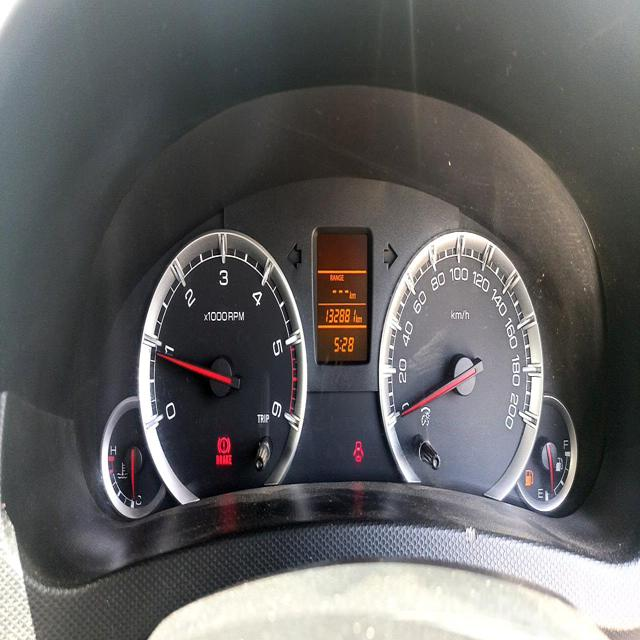odometer: (324, 305, 356, 326)
